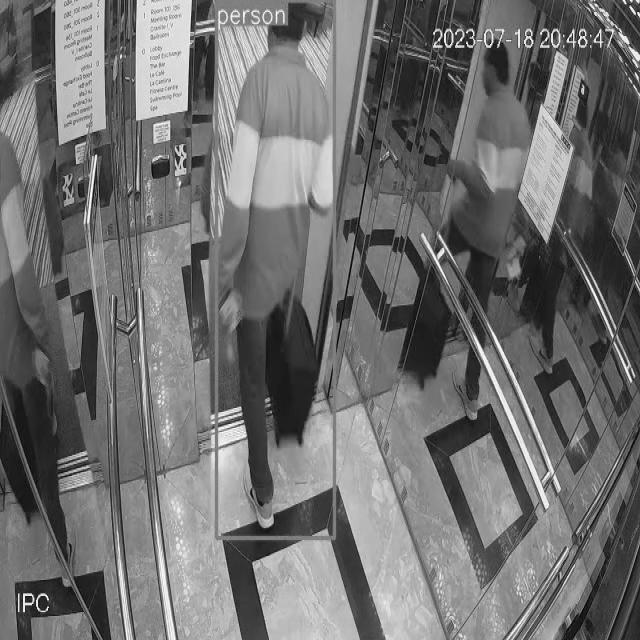person: (213, 4, 334, 543), (0, 99, 96, 600), (428, 49, 522, 453)
